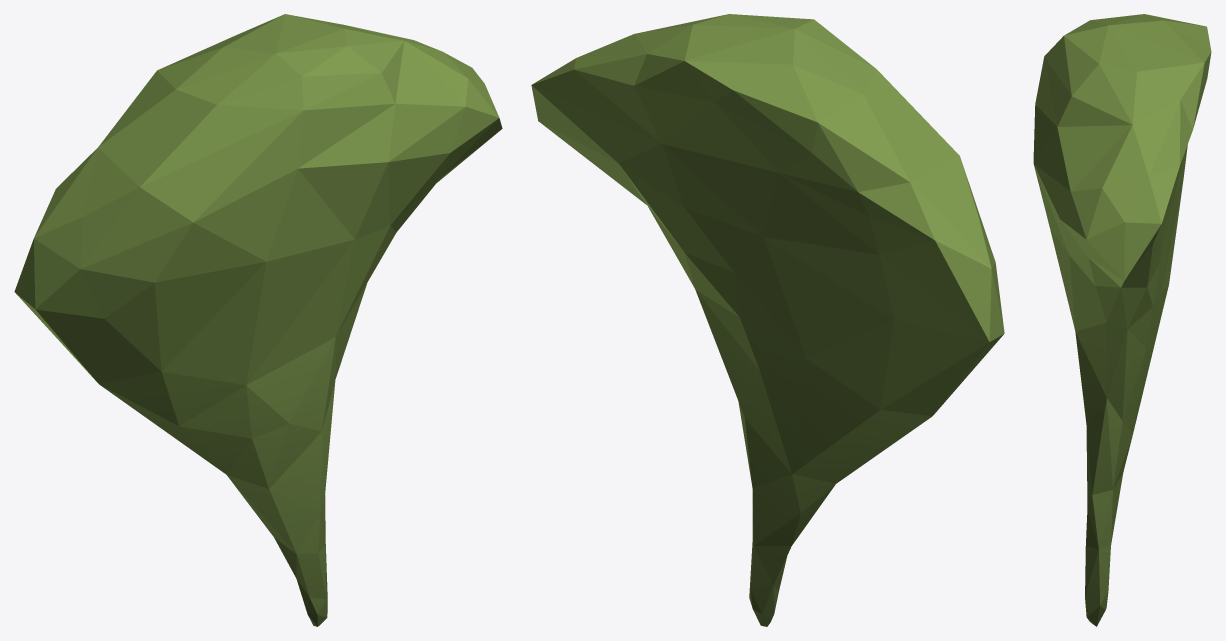
The model's file is Jungle_HangingBush_A.fbx.
3 views of the same model, side by side, from view 1: azimuth 30°, elevation 25°; view 2: azimuth 150°, elevation 25°; view 3: azimuth 270°, elevation 25° (orthographic). The views are drawn at different scales.
Parts seen in each view (by area): view 1: Jungle_HangingBush_A; view 2: Jungle_HangingBush_A; view 3: Jungle_HangingBush_A.
Part boxes in pixels (bbox=[...]): Jungle_HangingBush_A: bbox=[14, 14, 502, 626]; Jungle_HangingBush_A: bbox=[531, 14, 1004, 626]; Jungle_HangingBush_A: bbox=[1033, 14, 1211, 626].
Size of the model in its own units: 1.98 by 2.39 by 0.6611.
